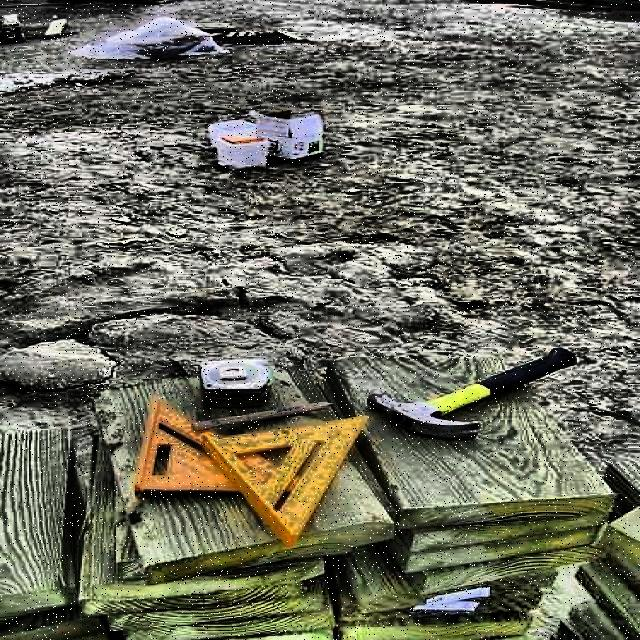hammer: (369, 346, 579, 440)
